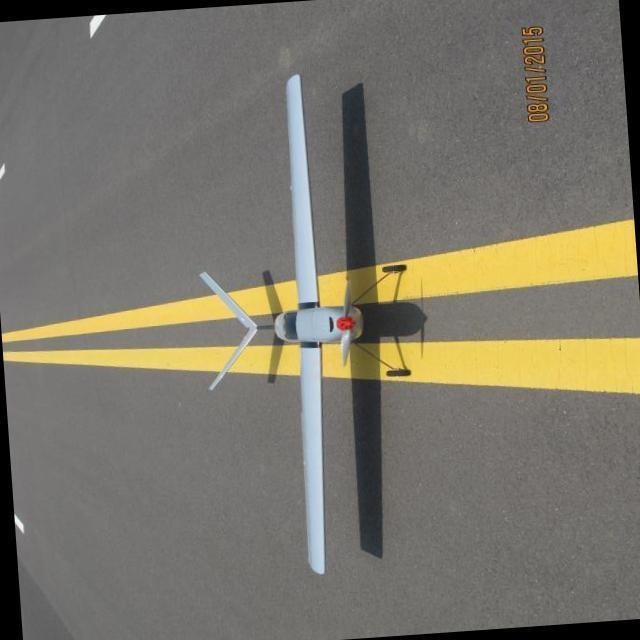iha: (232, 81, 414, 593)
